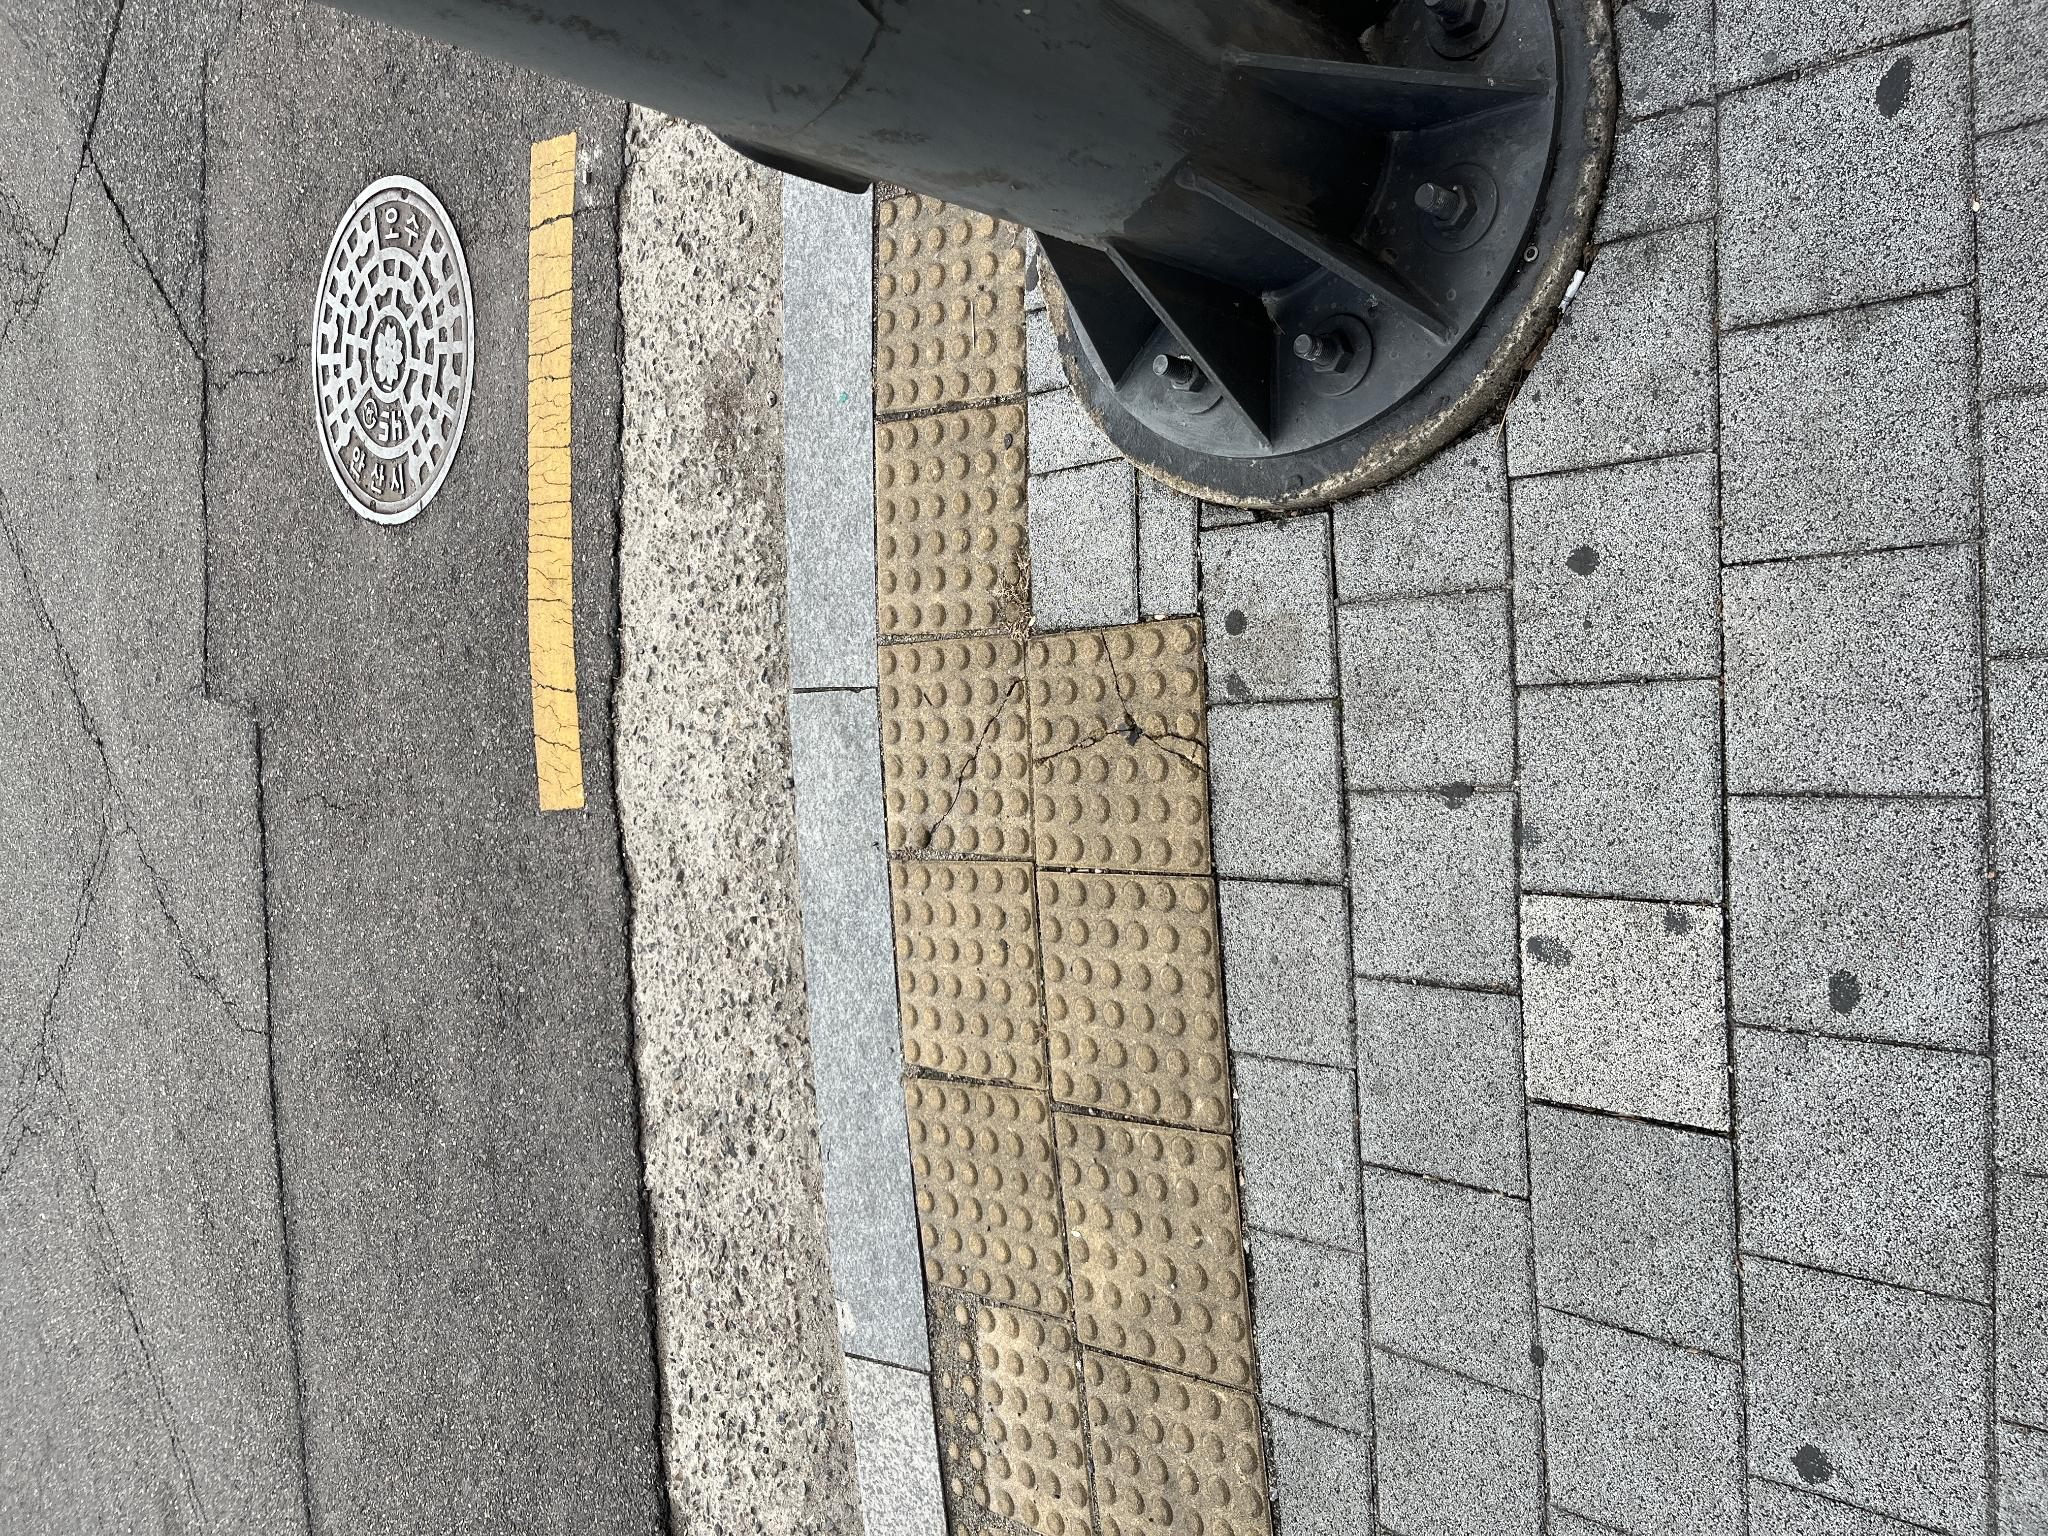Stop block broken: (663, 1026, 914, 1208), (679, 878, 903, 1031)
Stop block normal: (405, 1039, 664, 1231), (218, 904, 456, 1073)
